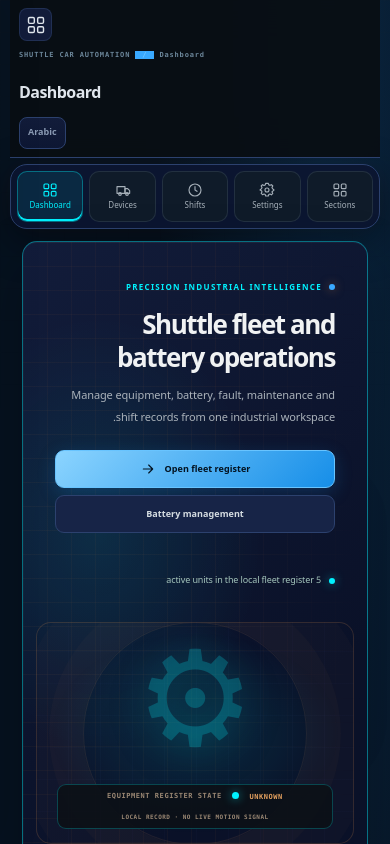
Test: Shuttle Car Automation V8 › switches to Arabic and updates interface direction
Click the button "Arabic". click: (42, 133)
box: [19,117,66,149]
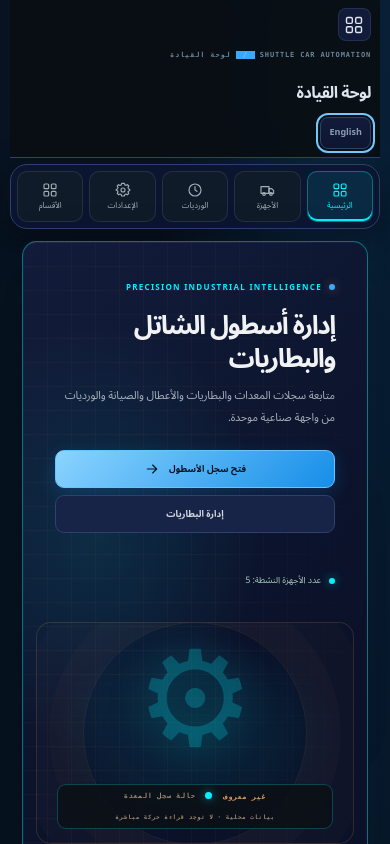
Check: the text "عدد الأجهزة النشطة: 5" is shown, box [245,571,335,590]
